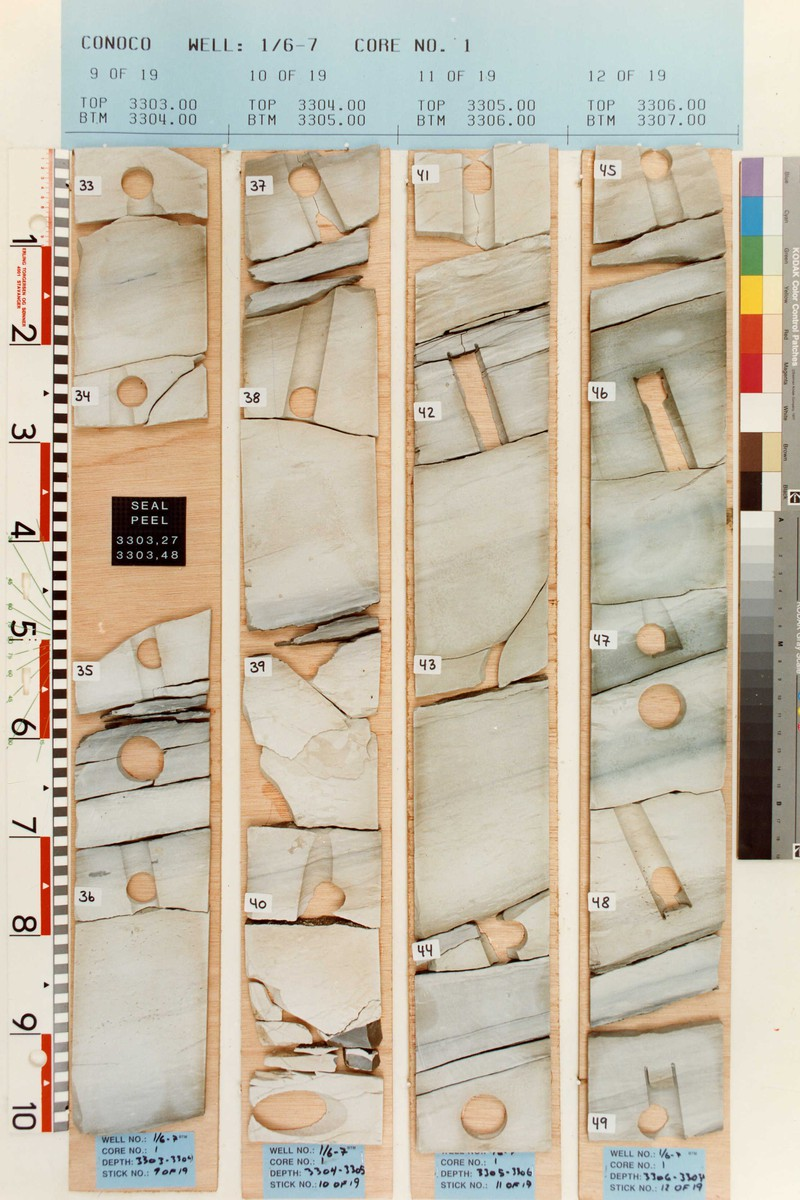core: (241, 147, 393, 1148), (409, 145, 558, 1153), (587, 146, 725, 1145), (74, 609, 209, 1134), (70, 145, 213, 429)
